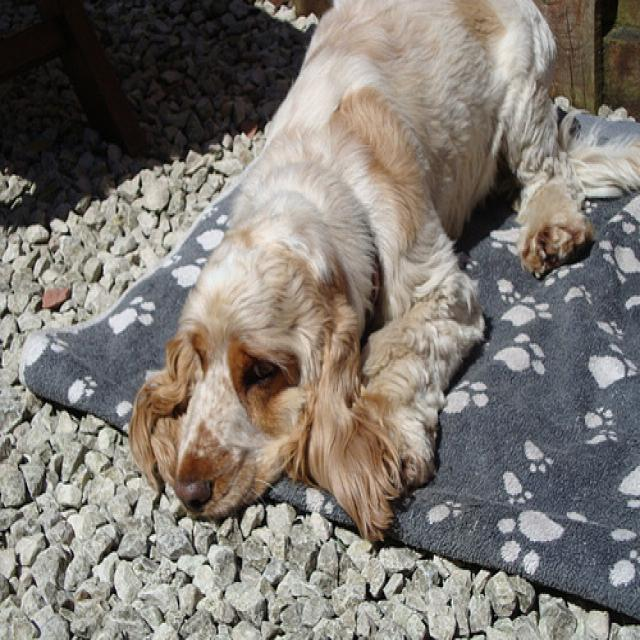dog-english_cocker_spaniel: (118, 2, 637, 551)
